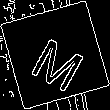M_NE: (22, 22, 88, 88)
